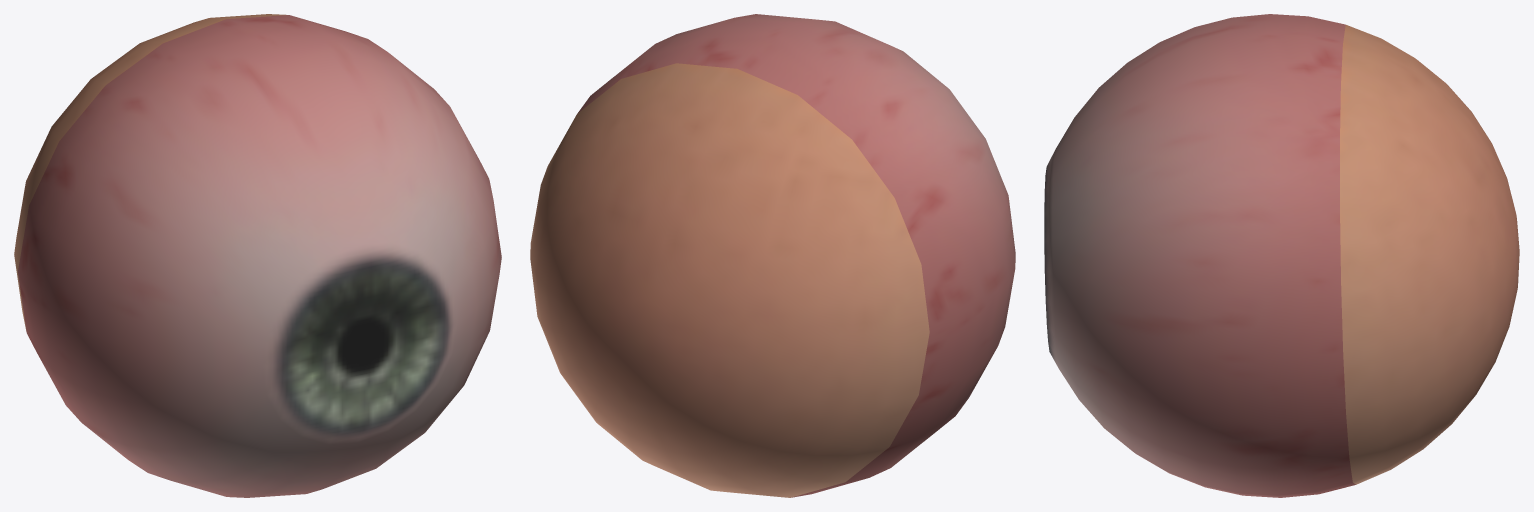
Rendered from Eye1.fbx.
3 renders of one model, left to right at view 1: azimuth 30°, elevation 25°; view 2: azimuth 150°, elevation 25°; view 3: azimuth 270°, elevation 25°, orthographic.
Parts seen in each view (by area): view 1: polySurface7; view 2: polySurface7; view 3: polySurface7.
Part boxes in pixels (left/top/right/bottom): polySurface7: left=14, top=14, right=501, bottom=497; polySurface7: left=530, top=14, right=1015, bottom=497; polySurface7: left=1044, top=14, right=1519, bottom=497.
Bounding box in the file's own units: 3.43 × 3.42 × 3.34.
1 material, 1 textured.
